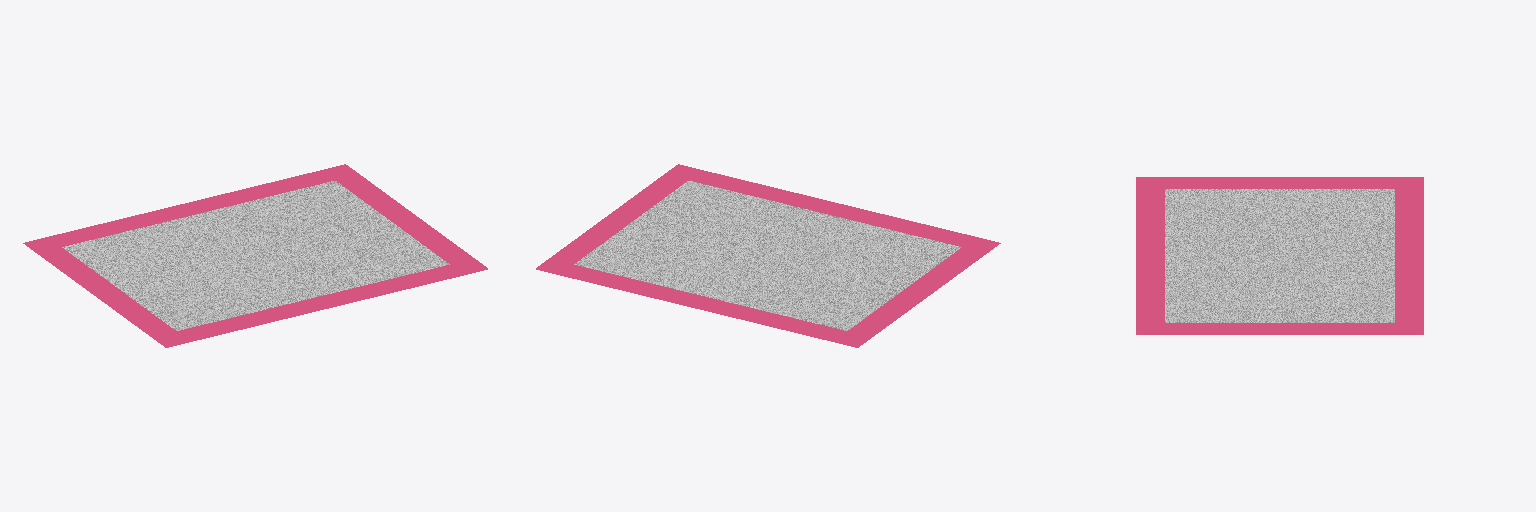
The picture shows the model from 3 angles: view 1: azimuth 30°, elevation 25°; view 2: azimuth 150°, elevation 25°; view 3: azimuth 270°, elevation 25°; orthographic projection.
Parts seen in each view (by area): view 1: mesh[number redacted].001, mesh[number redacted]; view 2: mesh[number redacted].001, mesh[number redacted]; view 3: mesh[number redacted].001, mesh[number redacted].
Boxes of the visible parts, box(x1,y1,x2,y2) form: mesh[number redacted].001: box(62, 181, 449, 330); mesh[number redacted]: box(23, 164, 487, 347); mesh[number redacted].001: box(574, 181, 961, 330); mesh[number redacted]: box(536, 164, 1000, 347); mesh[number redacted].001: box(1165, 189, 1394, 322); mesh[number redacted]: box(1136, 177, 1423, 334).
Size of the model in its own units: 0.13 by 0.0001 by 0.1.
Materials: 2 (1 with a texture image).